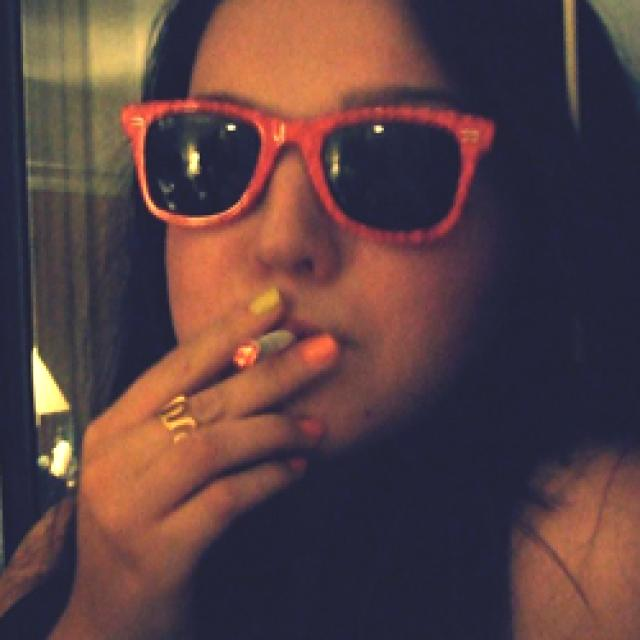Smooking: (221, 314, 289, 384)
